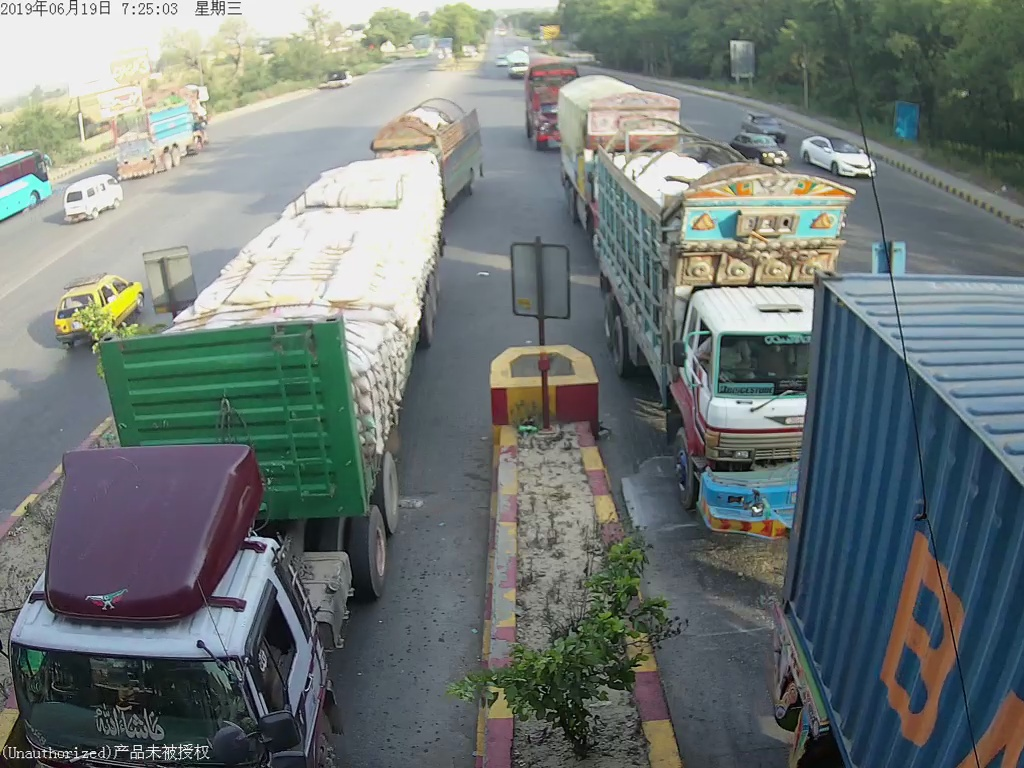Cat-4: (598, 160, 856, 538)
Cat-5: (9, 147, 455, 751)
